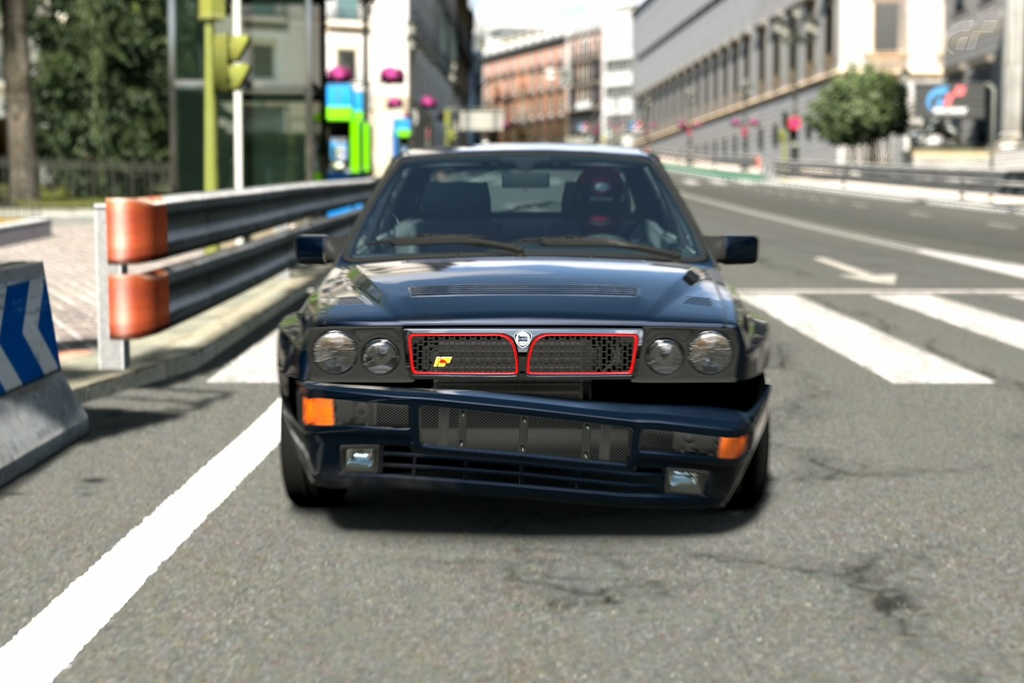Car: (276, 139, 775, 508)
